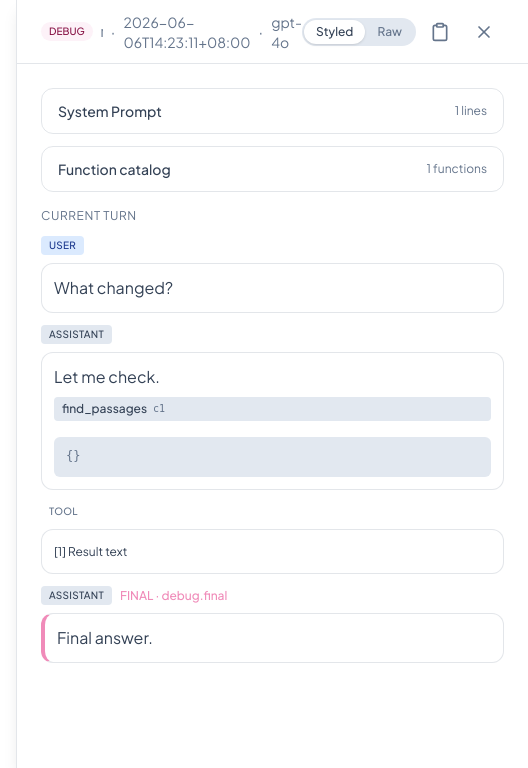
DebugDrawer › toggles to raw JSON view
Click the button "Raw" at (390, 32), box [365,20,414,44]
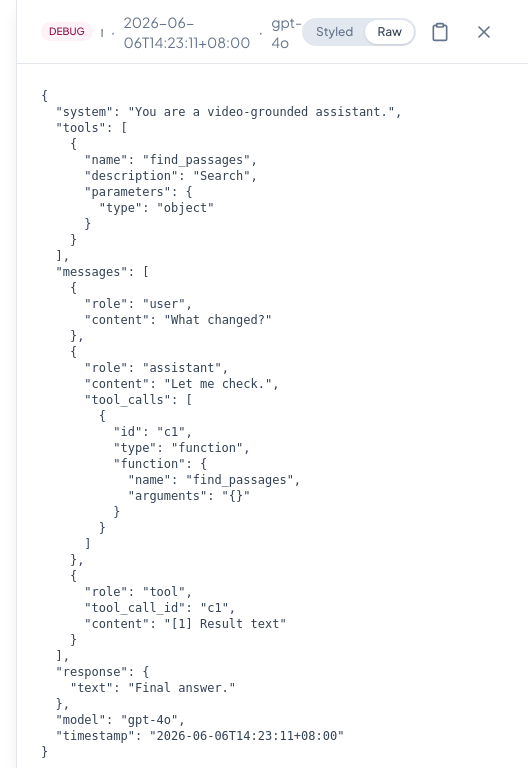
expect the text "\"system\":" is shown: met, box [41,89,402,759]
